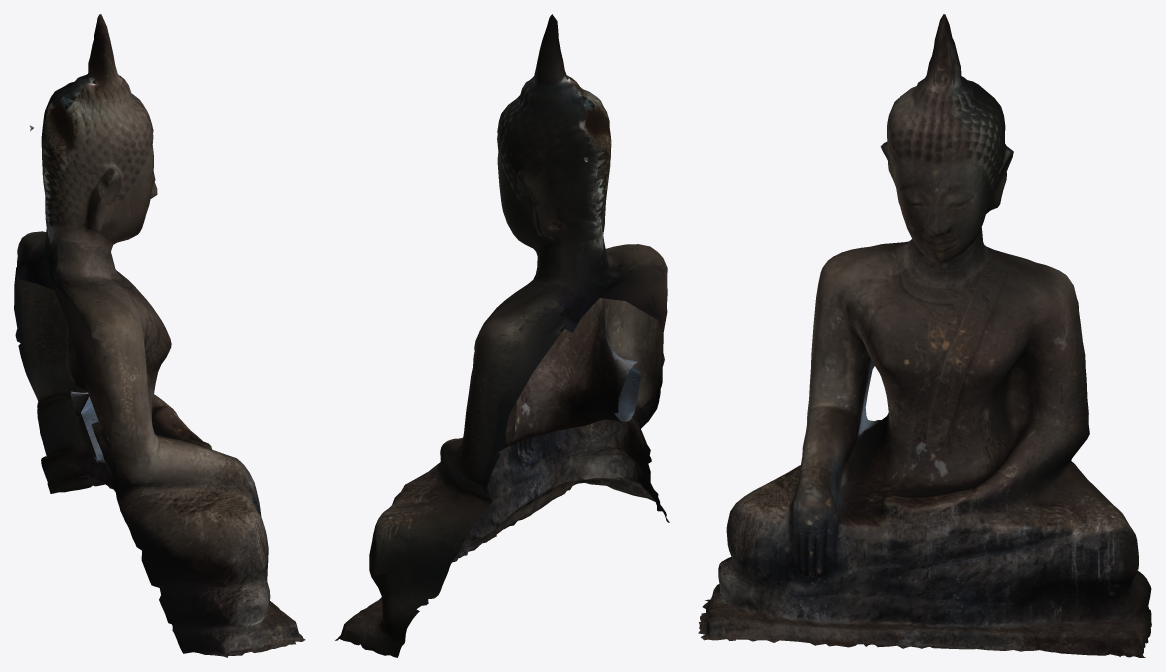
File: mdl_namo_buddha2.glb
3 views of the same model, side by side, from view 1: azimuth 30°, elevation 25°; view 2: azimuth 150°, elevation 25°; view 3: azimuth 270°, elevation 25° (orthographic). The views are drawn at different scales.
Visible parts, largest first — view 1: Object_2; view 2: Object_2; view 3: Object_2.
Part boxes in pixels (x1,y1,x2,y2): Object_2: [14, 14, 305, 657]; Object_2: [335, 14, 669, 657]; Object_2: [698, 14, 1151, 657].
Size of the model in its own units: 8.61 by 26.46 by 18.55.
1 material, 1 textured.
